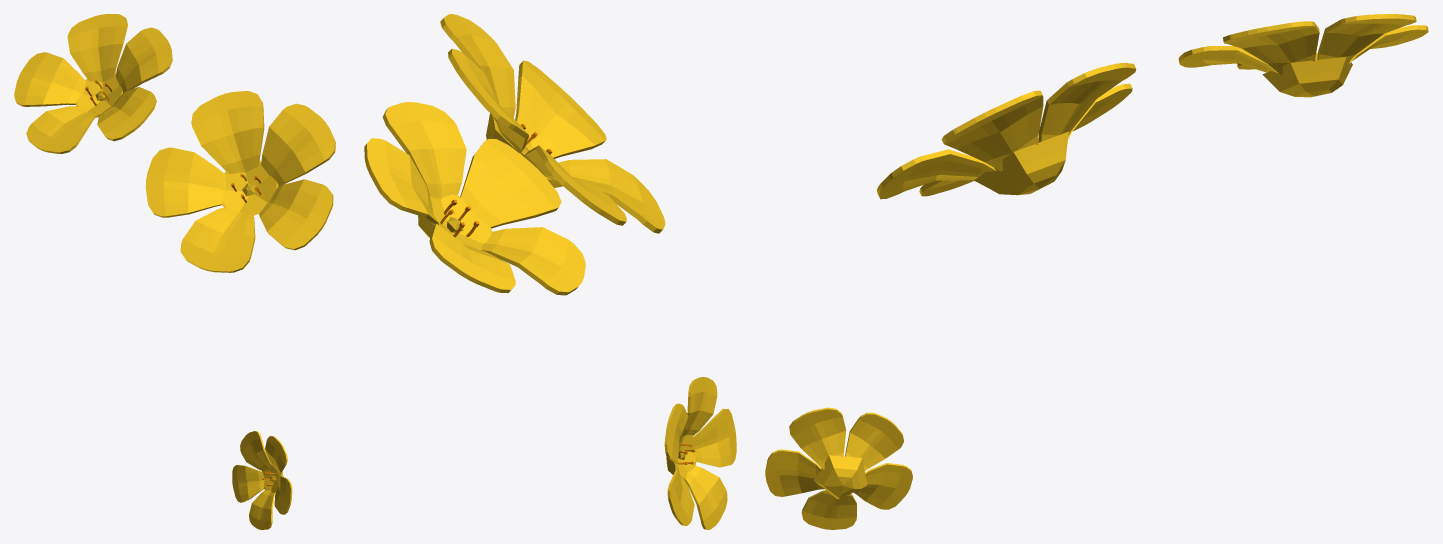
Rendered from LV4Q Y Flower.glb.
3 renders of one model, left to right at view 1: azimuth 30°, elevation 25°; view 2: azimuth 150°, elevation 25°; view 3: azimuth 270°, elevation 25°, orthographic. The views are drawn at different scales.
Visible parts, largest first — view 1: Cube.007; view 2: Cube.007; view 3: Cube.007.
Part boxes in pixels (x1,y1,x2,y2): Cube.007: [14, 14, 335, 529]; Cube.007: [364, 14, 736, 529]; Cube.007: [765, 14, 1428, 529].
Size of the model in its own units: 0.87 by 1.64 by 1.8.
